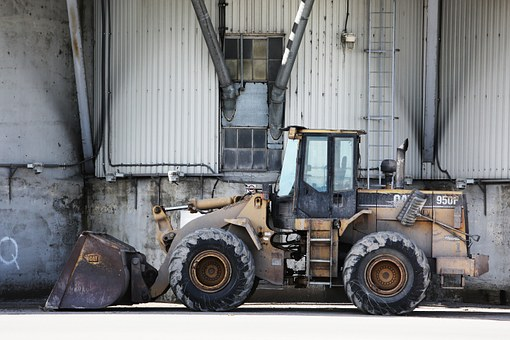excavator: (39, 124, 493, 317)
